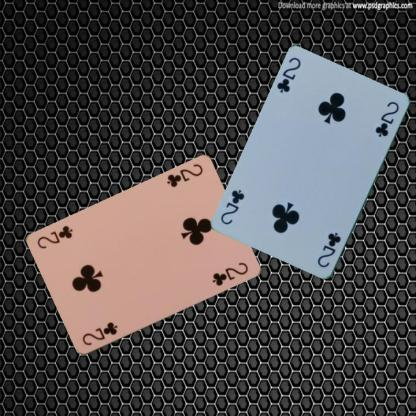2c: (163, 161, 204, 189), (274, 55, 302, 95), (315, 230, 343, 269), (79, 320, 119, 347)
